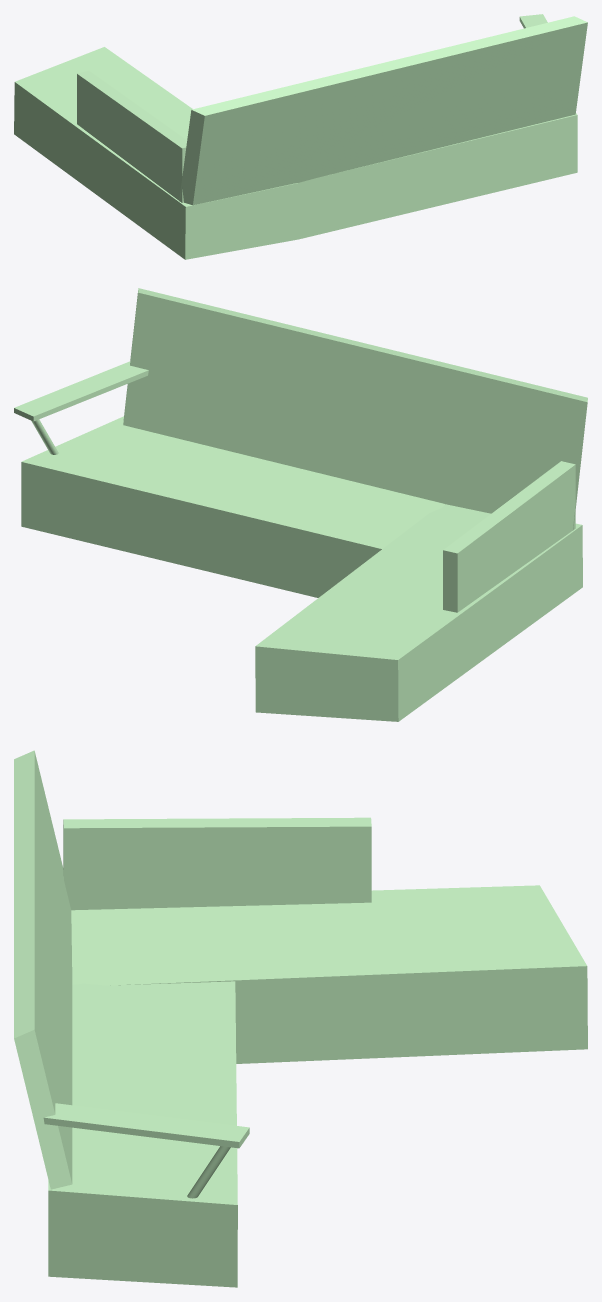
File: banc.glb
3 renders of one model, top to bottom at view 1: azimuth 30°, elevation 25°; view 2: azimuth 150°, elevation 25°; view 3: azimuth 270°, elevation 25°, orthographic. The views are drawn at different scales.
Parts seen in each view (by area): view 1: Cube001, Cube004, Cube002, Cube003; view 2: Cube001, Cube002, Cube004, Cube003, Cylinder001; view 3: Cube004, Cube002, Cube003, Cube001, Cylinder001.
Boxes of the visible parts, x1,y1,x2,y2 form: Cube001: (179, 16, 587, 205); Cube004: (14, 47, 297, 259); Cube002: (297, 113, 577, 239); Cube003: (77, 70, 187, 202); Cube001: (123, 288, 587, 530); Cube002: (21, 416, 444, 597); Cube004: (255, 504, 582, 721); Cube003: (443, 461, 575, 612); Cylinder001: (14, 361, 148, 454); Cube004: (71, 885, 587, 1063); Cube002: (48, 981, 237, 1287); Cube003: (63, 817, 371, 910); Cube001: (14, 750, 72, 1189); Cylinder001: (43, 1103, 249, 1198).
Size of the model in its own units: 10.87 by 3.92 by 8.45.
